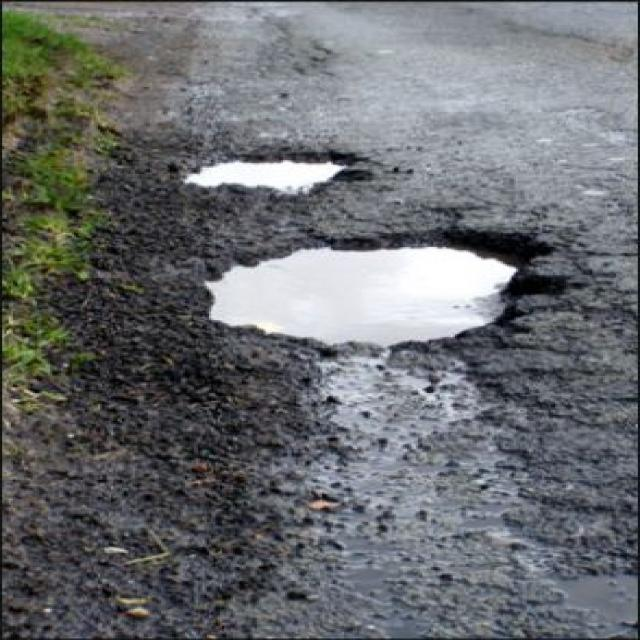pothole: (190, 219, 568, 356), (181, 141, 368, 196)
